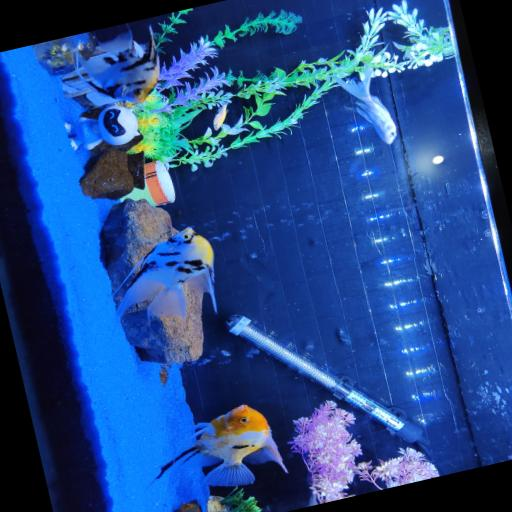Fish: (156, 405, 286, 486), (116, 228, 216, 317), (82, 27, 159, 103), (333, 65, 396, 144), (212, 105, 227, 130)
